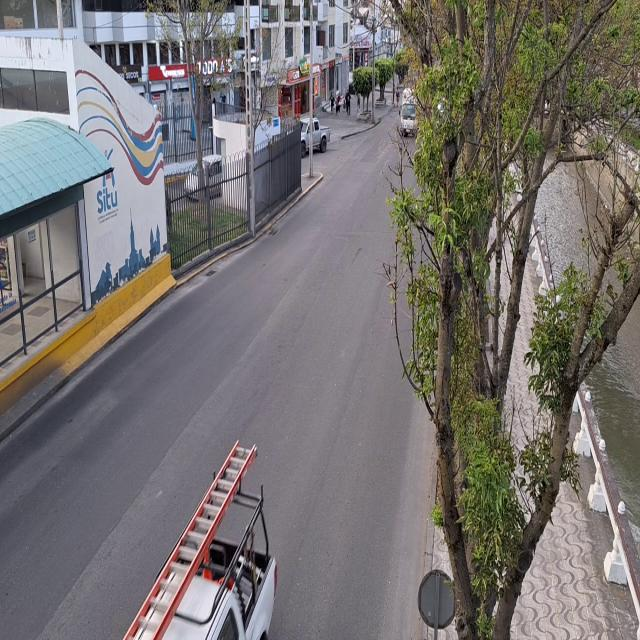CMT: (130, 485, 281, 640), (300, 118, 332, 158)
